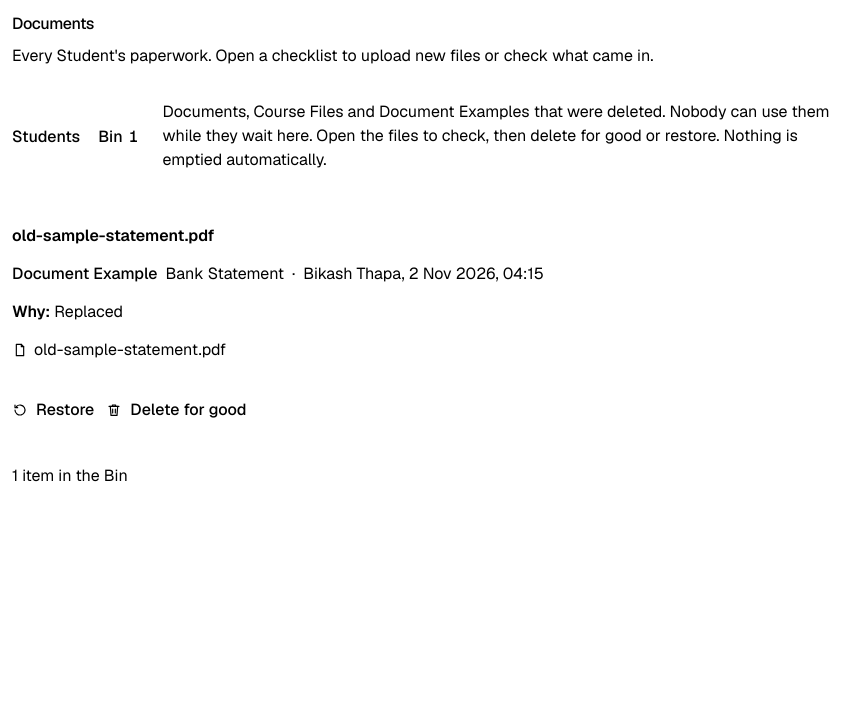
Test case: the Bin tab (Admins, issue 79) › restores a Document Example to its Document Type
Click the button named "Restore old-sample-statement.pdf". click: click(53, 410)
box: [12,388,94,432]
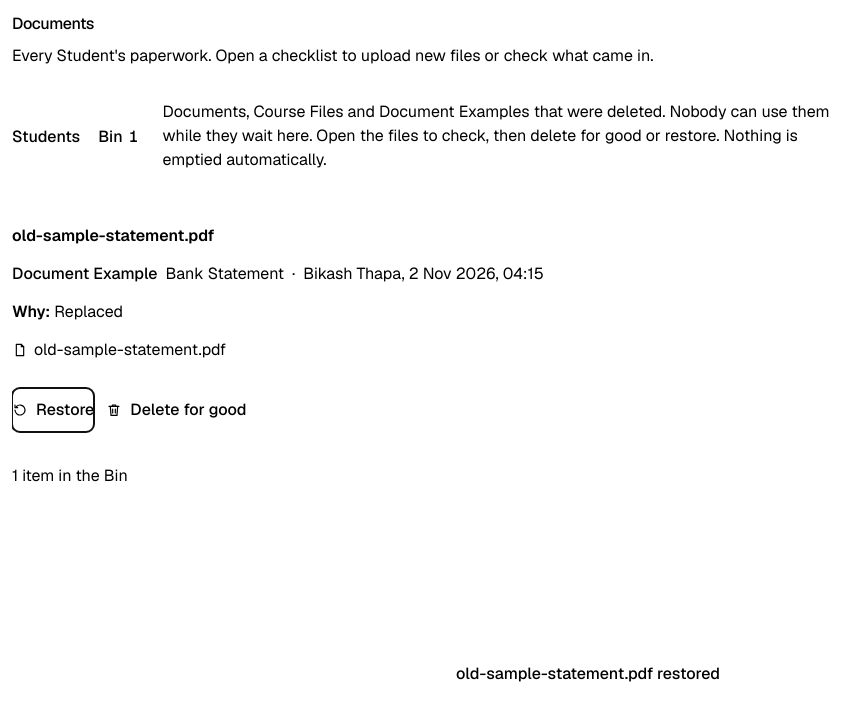
Check: the text "old-sample-statement.pdf restored" is shown, box [456,663,720,684]
